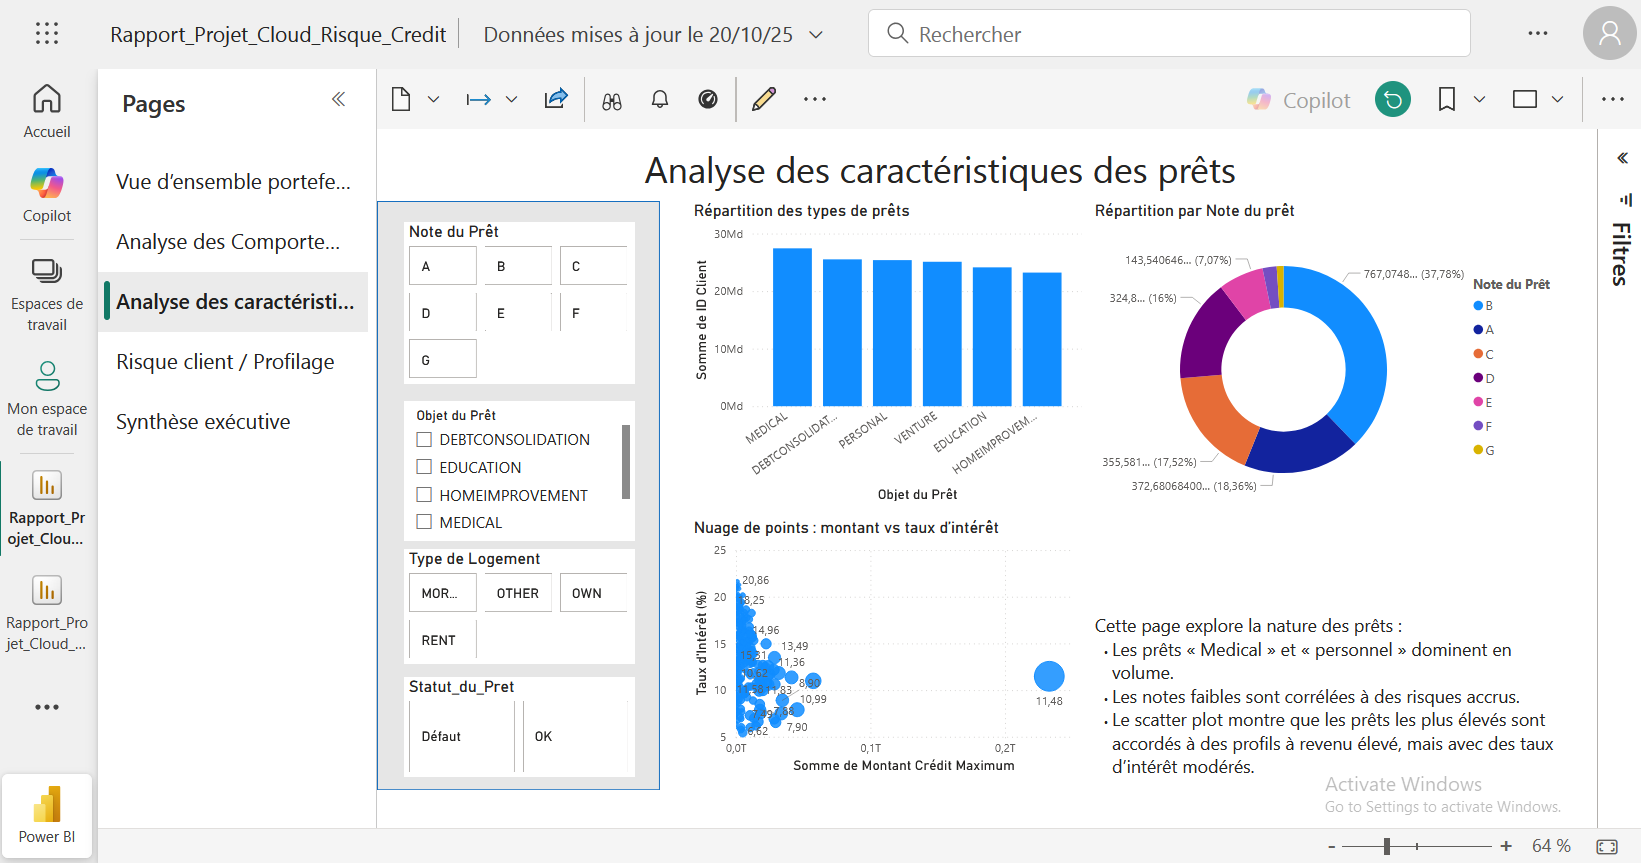

The page's visual inventory and layout, read from the dashboard file:
{"tool":"powerbi","page":{"name":"Analyse des caractéristiques des prêts","canvas":[1280,720],"ordinal":2},"visuals":[{"type":"textbox","box":[231.5,11.7,717.9,65.1],"z":0},{"type":"clusteredColumnChart","title":"Répartition des types de prêts","fields":{"Category":["Dataset_Risque_de_Credit_Clean_Test.Objet du Prêt"],"Y":["Sum(Dataset_Risque_de_Credit_Clean_Test.ID Client)"]},"box":[326.9,75.6,417.6,319.4],"z":1000},{"type":"donutChart","title":"Répartition par Note du prêt","fields":{"Category":["Dataset_Risque_de_Credit_Clean_Test.Note du Prêt"],"Y":["Sum(Dataset_Risque_de_Credit_Clean_Test.Montant Crédit Maximum)"]},"box":[746.5,75.6,504.6,332.6],"z":2000},{"type":"scatterChart","title":"Nuage de points : montant vs taux d’intérêt","fields":{"X":["Sum(Dataset_Risque_de_Credit_Clean_Test.Montant Crédit Maximum)"],"Y":["Sum(Dataset_Risque_de_Credit_Clean_Test.Taux d'Intérêt (%))"],"Size":["Sum(Dataset_Risque_de_Credit_Clean_Test.Revenu Annuel)"]},"box":[326.9,408.2,417.6,272.1],"z":3000},{"type":"shape","box":[0,75.6,296.7,618],"z":4000},{"type":"advancedSlicerVisual","fields":{"Values":["Dataset_Risque_de_Credit_Clean_Test.Note du Prêt"]},"box":[28.3,98.3,241.9,170.1],"z":5000},{"type":"slicer","fields":{"Values":["Dataset_Risque_de_Credit_Clean_Test.Objet du Prêt"]},"box":[28.3,285.4,241.9,147.4],"z":6000},{"type":"advancedSlicerVisual","fields":{"Values":["Dataset_Risque_de_Credit_Clean_Test.Type de Logement"]},"box":[28.3,440.3,241.9,120.9],"z":7000},{"type":"advancedSlicerVisual","fields":{"Values":["Dataset_Risque_de_Credit_Clean_Test.Statut_du_Pret"]},"box":[28.3,574.5,241.9,105.8],"z":8000},{"type":"textbox","box":[746.9,501.1,505,211.2],"z":9000}]}

Visuals, with their boxes on the page's 1280x720 design canvas (x1, y1, x2, y2). These are canvas units, not pixel positions in the 1641x863 screenshot, which may show the page scaled, cropped or inside an application window:
textbox: 232, 12, 949, 77
"Répartition des types de prêts" clusteredColumnChart: 327, 76, 744, 395
"Répartition par Note du prêt" donutChart: 746, 76, 1251, 408
"Nuage de points : montant vs taux d’intérêt" scatterChart: 327, 408, 744, 680
shape: 0, 76, 297, 694
advancedSlicerVisual - Dataset_Risque_de_Credit_Clean_Test.Note du Prêt: 28, 98, 270, 268
slicer - Dataset_Risque_de_Credit_Clean_Test.Objet du Prêt: 28, 285, 270, 433
advancedSlicerVisual - Dataset_Risque_de_Credit_Clean_Test.Type de Logement: 28, 440, 270, 561
advancedSlicerVisual - Dataset_Risque_de_Credit_Clean_Test.Statut_du_Pret: 28, 574, 270, 680
textbox: 747, 501, 1252, 712
